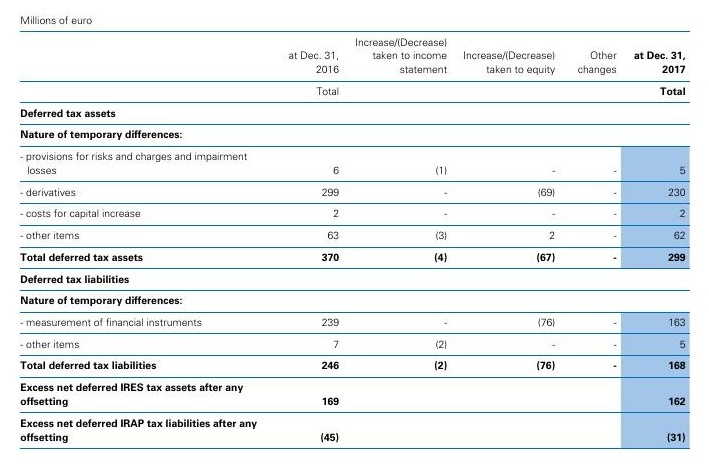table: (0, 0, 709, 467)
